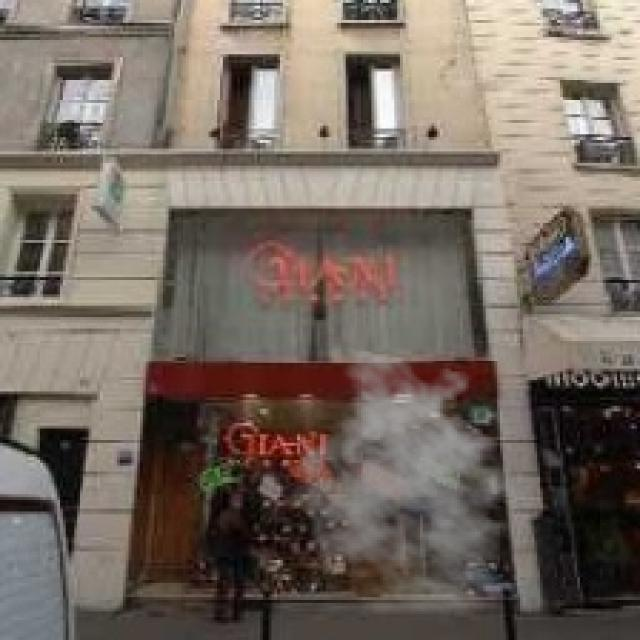smoke: (283, 349, 537, 614)
